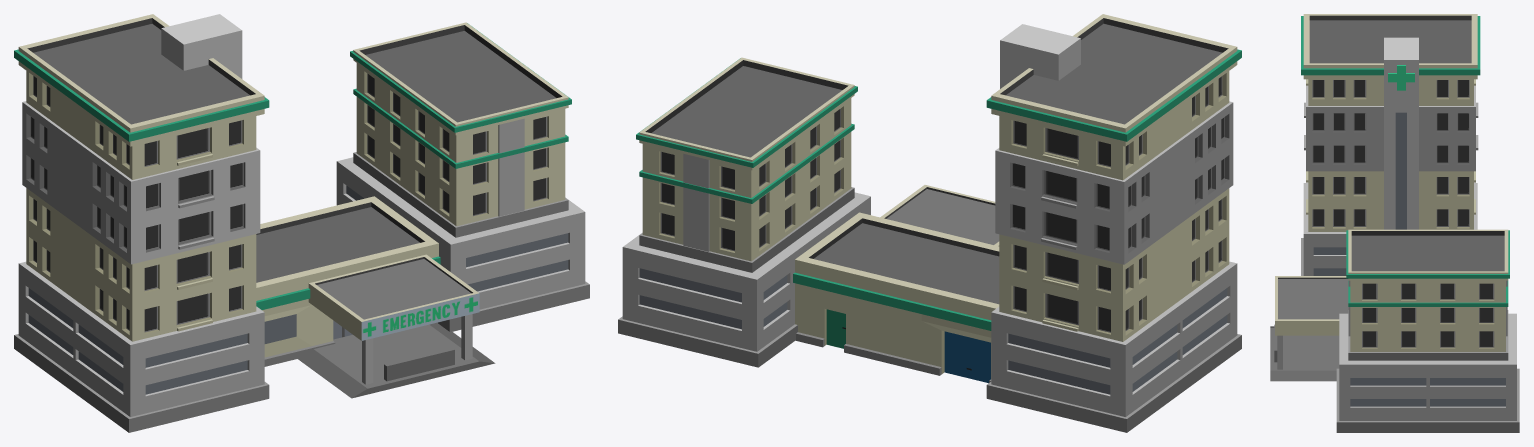
Rendered from SA_Bld_HospitalBuildingMain_01.gltf.
The picture shows the model from 3 angles, left to right: view 1: azimuth 30°, elevation 25°; view 2: azimuth 150°, elevation 25°; view 3: azimuth 270°, elevation 25°; orthographic projection. The views are drawn at different scales.
Parts seen in each view (by area): view 1: SA_Bld_HospitalBuildingMain_01; view 2: SA_Bld_HospitalBuildingMain_01; view 3: SA_Bld_HospitalBuildingMain_01.
Part boxes in pixels (<box>): SA_Bld_HospitalBuildingMain_01: <box>14,14,589,432</box>; SA_Bld_HospitalBuildingMain_01: <box>618,14,1241,432</box>; SA_Bld_HospitalBuildingMain_01: <box>1270,14,1519,432</box>.
Size of the model in its own units: 64.53 by 41.27 by 36.96.
Materials: 1 (1 with a texture image).
